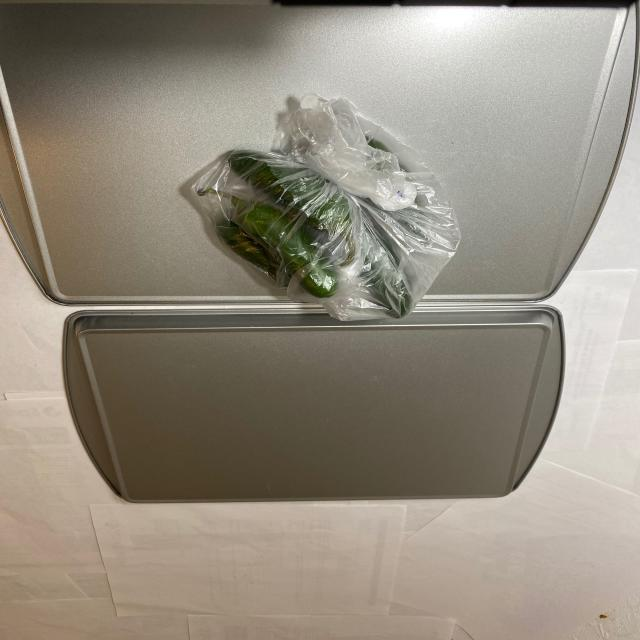chilli: (188, 133, 457, 318)
